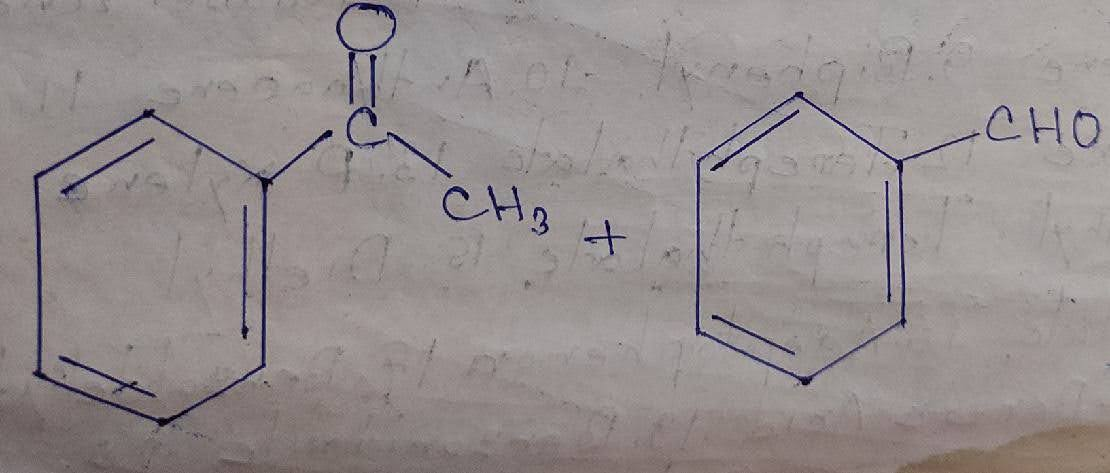Acetophenone(C8H8O): (26, 4, 552, 433)
Benzaldehyde(C7H6O): (690, 87, 1105, 390)
